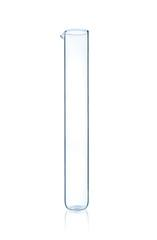Test tube: (57, 11, 95, 215)
